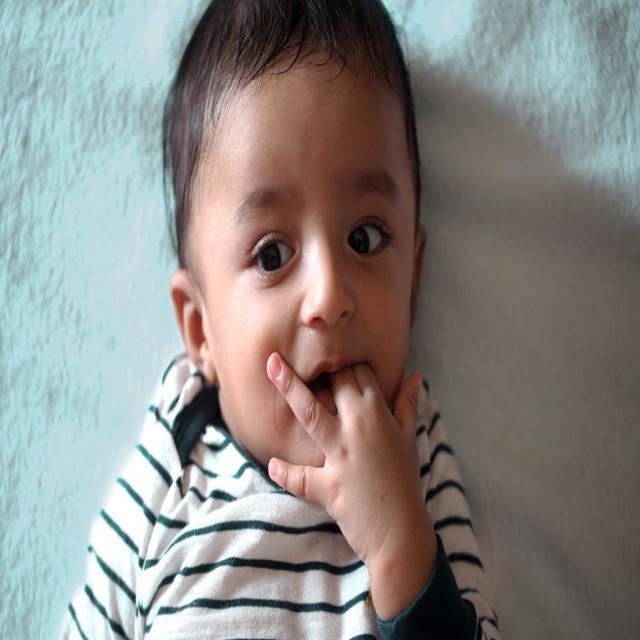non-dog: (61, 0, 503, 640)
